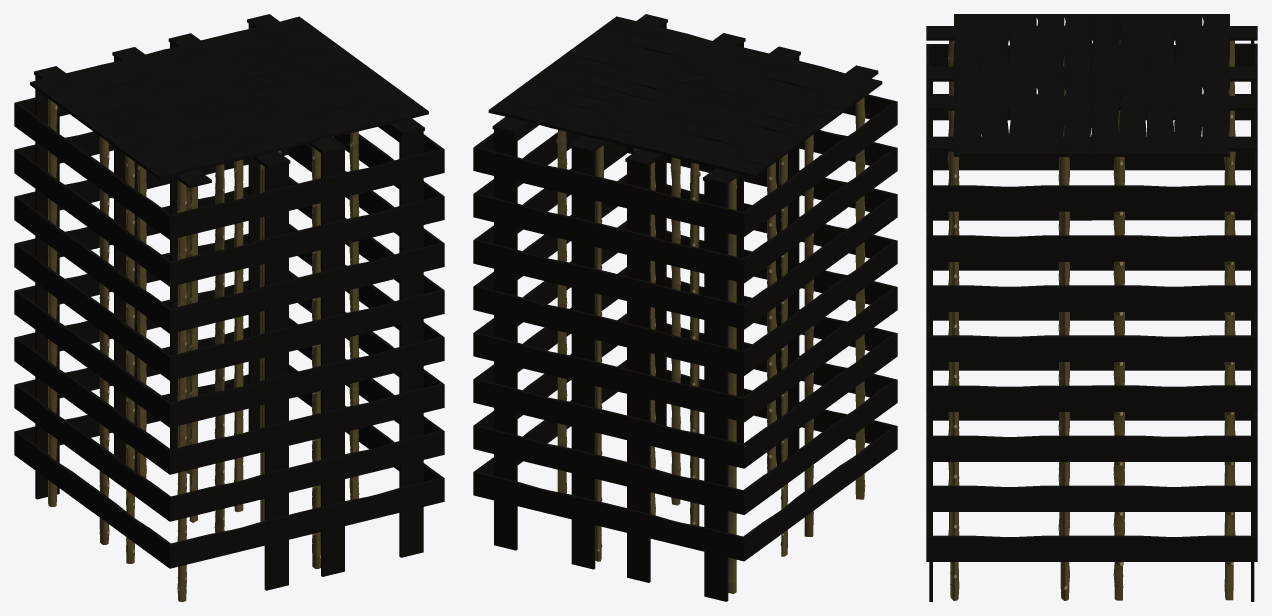
The model's file is Tower.fbx.
3 renders of one model, left to right at view 1: azimuth 30°, elevation 25°; view 2: azimuth 150°, elevation 25°; view 3: azimuth 270°, elevation 25°, orthographic. The views are drawn at different scales.
Visible parts, largest first — view 1: polySurface617; view 2: polySurface617; view 3: polySurface617.
Boxes of the visible parts, x1=… form: polySurface617: x1=14, y1=14, x2=444, y2=601; polySurface617: x1=473, y1=14, x2=897, y2=601; polySurface617: x1=926, y1=14, x2=1257, y2=601.
Bounding box in the file's own units: 12.25 × 18.25 × 12.01.
